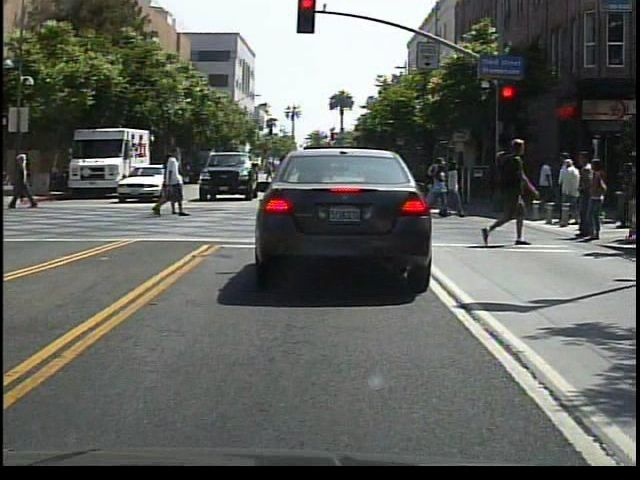person: (481, 131, 537, 253), (153, 150, 190, 226), (553, 154, 583, 230), (261, 154, 294, 214), (10, 149, 38, 215)
